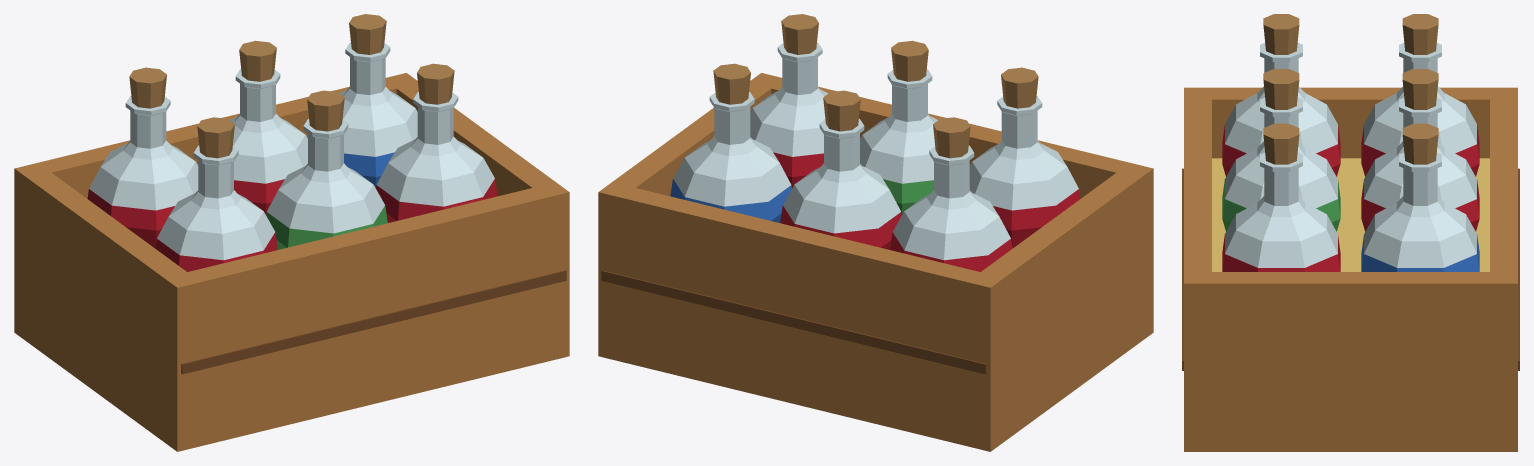
The model's file is prop-potion-crate.glb.
3 views of the same model, side by side, from view 1: azimuth 30°, elevation 25°; view 2: azimuth 150°, elevation 25°; view 3: azimuth 270°, elevation 25° (orthographic). The views are drawn at different scales.
Visible parts, largest first — view 1: PotionCrate; view 2: PotionCrate; view 3: PotionCrate.
Boxes of the visible parts, x1,y1,x2,y2 form: PotionCrate: [14, 14, 569, 451]; PotionCrate: [598, 14, 1153, 451]; PotionCrate: [1182, 14, 1519, 451].
Bounding box in the file's own units: 0.5 × 0.33 × 0.364.
